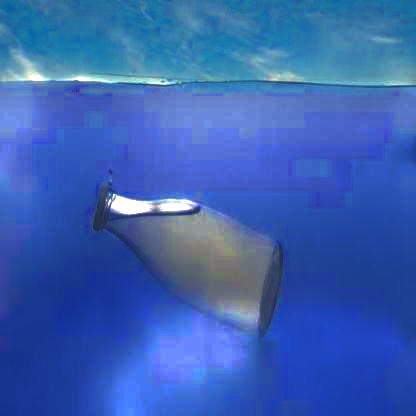gbottle: (93, 184, 285, 341)
